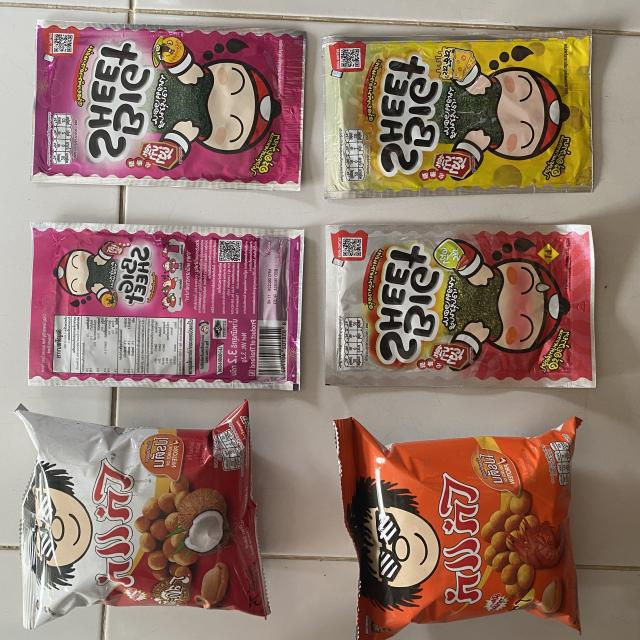plastik: (17, 401, 270, 629), (334, 417, 581, 640), (33, 20, 305, 190), (29, 223, 303, 389), (323, 30, 593, 198), (325, 225, 595, 388)
